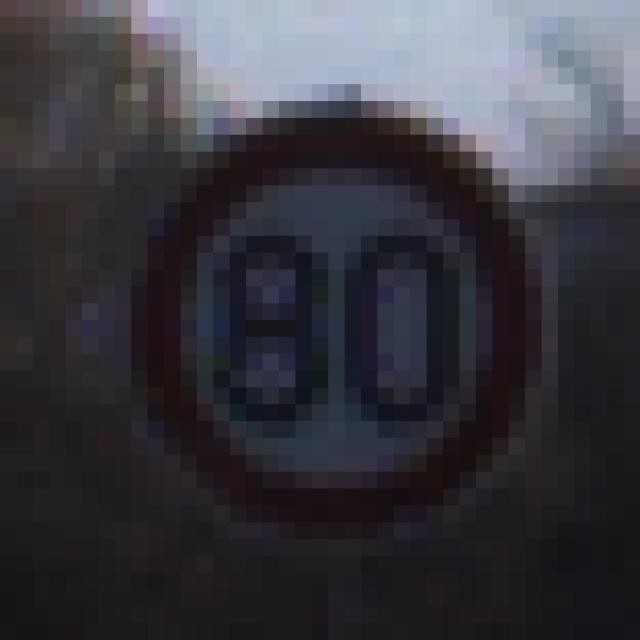Ograniczenie predkosci do 80: (159, 117, 544, 530)
